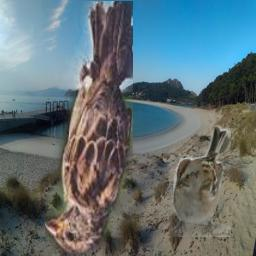Sparrow: (45, 1, 133, 256), (169, 124, 231, 237)
